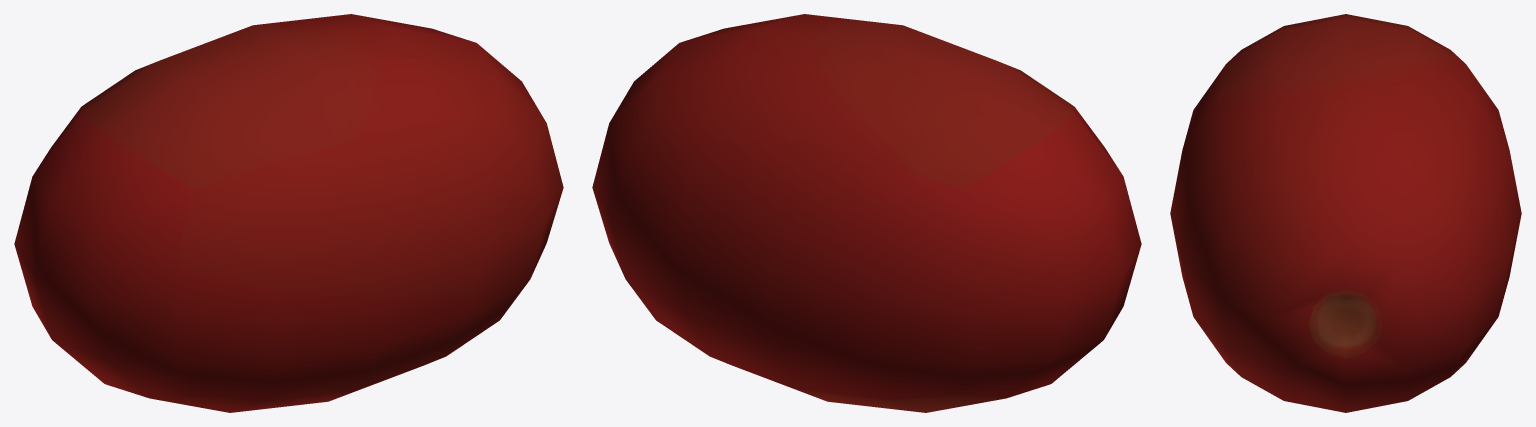
File: model_frutocafe_01.fbx
3 renders of one model, left to right at view 1: azimuth 30°, elevation 25°; view 2: azimuth 150°, elevation 25°; view 3: azimuth 270°, elevation 25°, orthographic. The views are drawn at different scales.
Visible parts, largest first — view 1: Fruto de Cafe1.003; view 2: Fruto de Cafe1.003; view 3: Fruto de Cafe1.003.
Part boxes in pixels (box(x1,y1,x2,y2)): Fruto de Cafe1.003: box(14, 14, 563, 412); Fruto de Cafe1.003: box(592, 14, 1141, 412); Fruto de Cafe1.003: box(1170, 14, 1521, 412).
Size of the model in its own units: 0.6373 by 0.418 by 0.418.
Materials: 1 (1 with a texture image).
